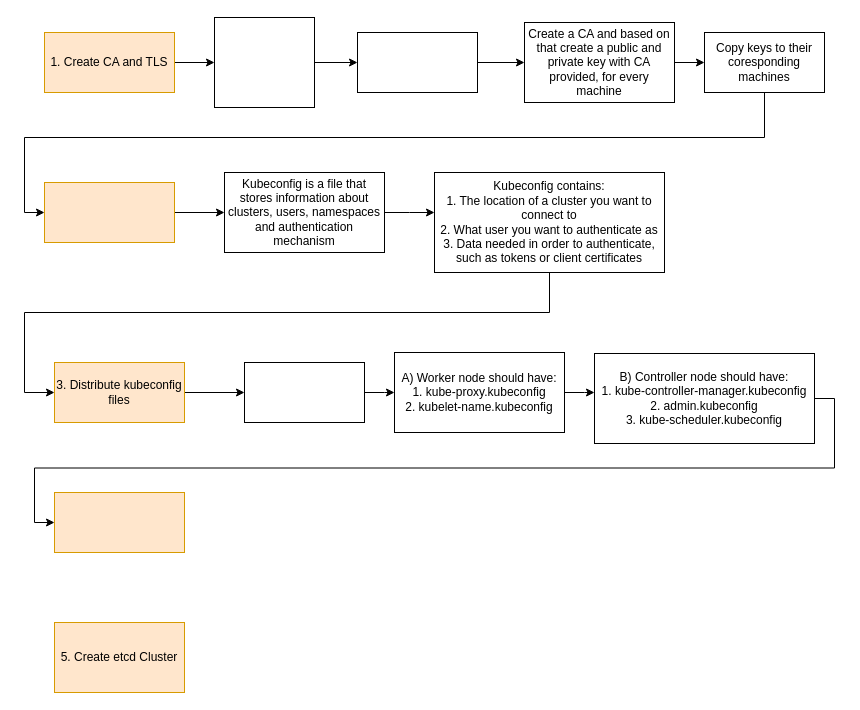
Image size: 860x710. Some labels were removed from this diagram. The centre of each missing label's shape, as x and y in pixels:
"2. Create kubeconfig" goes at pixel 109 212.
"4. Create Data Encryption Config and Key" goes at pixel 119 522.
"CA - Certificate Authentication TLS - Transport Layer Security" goes at pixel 264 62.
"Copy kubeconfig files to the coresponding machines" goes at pixel 304 392.
"Works like password but is much more secure" goes at pixel 417 62.
